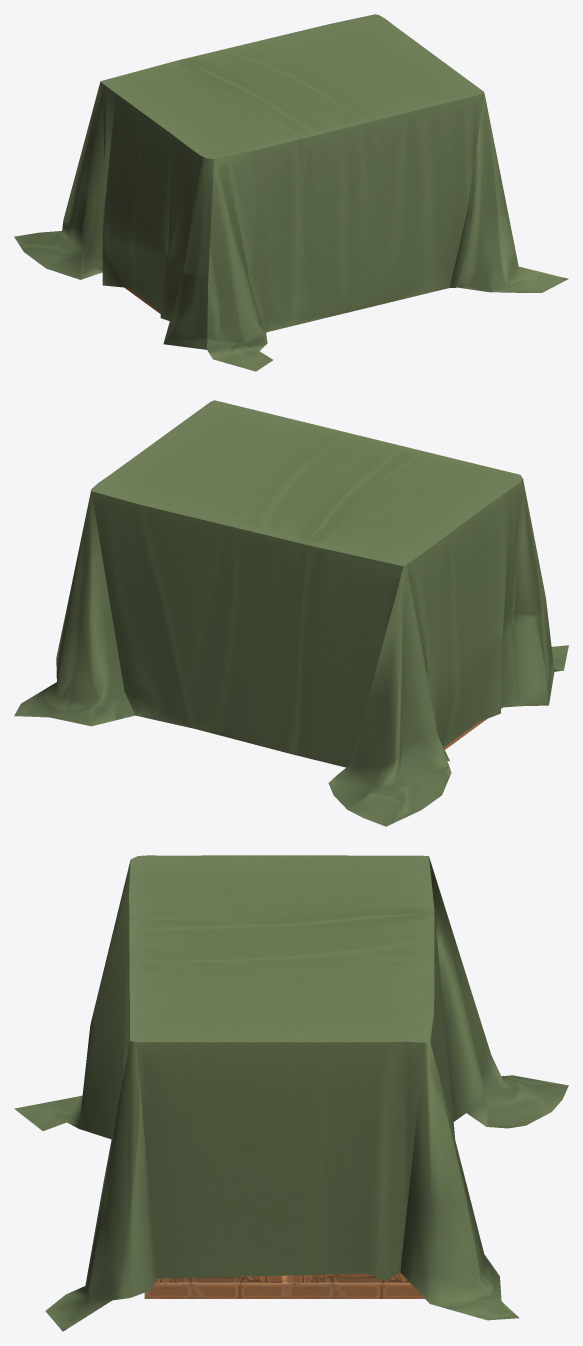
Rendered from Pfb_Box_GRP__4.fbx.
3 renders of one model, top to bottom at view 1: azimuth 30°, elevation 25°; view 2: azimuth 150°, elevation 25°; view 3: azimuth 270°, elevation 25°, orthographic. The views are drawn at different scales.
Visible parts, largest first — view 1: MAT_Canvas_01; view 2: MAT_Canvas_01; view 3: MAT_Canvas_01, Mat_WoodBox_01_1.
Boxes of the visible parts, x1=… form: MAT_Canvas_01: x1=14, y1=14, x2=568, y2=371; MAT_Canvas_01: x1=14, y1=400, x2=568, y2=826; MAT_Canvas_01: x1=14, y1=855, x2=568, y2=1331; Mat_WoodBox_01_1: x1=144, y1=1272, x2=424, y2=1298.
Bounding box in the file's own units: 3.25 × 1.53 × 2.98.
2 materials, 2 textured.
